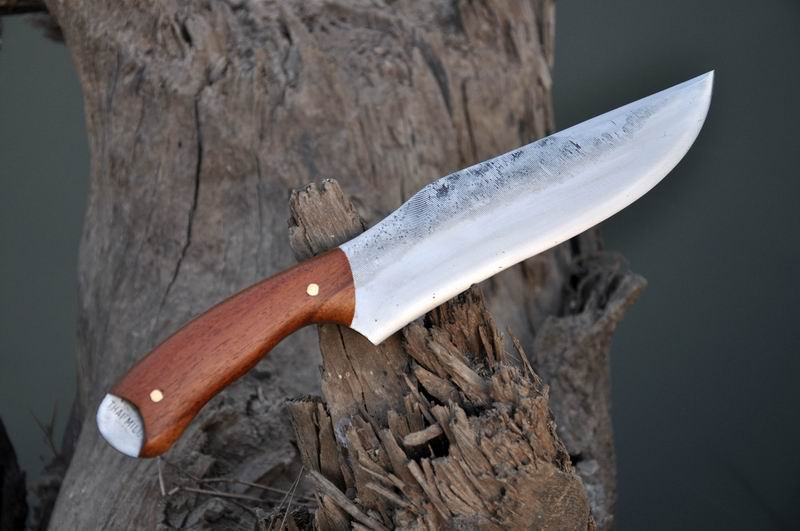knife: (92, 67, 720, 483)
